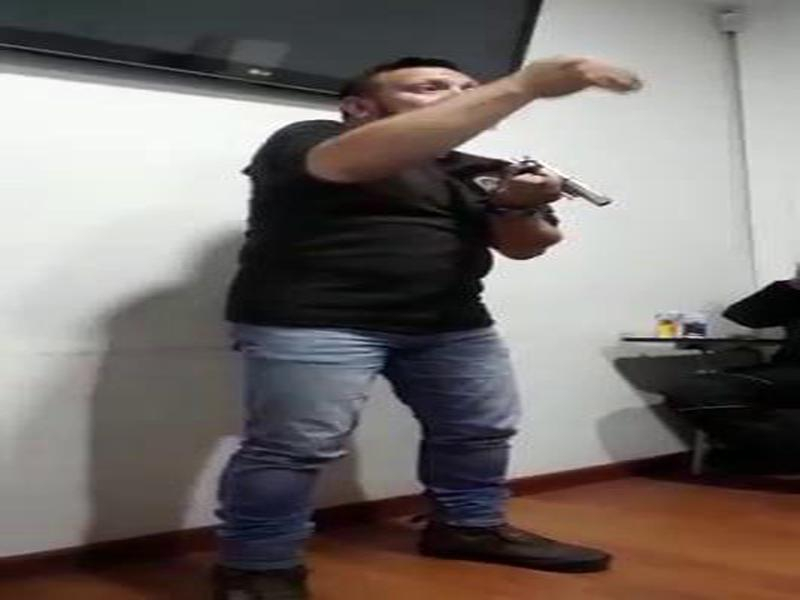Revolver: (456, 150, 631, 238)
